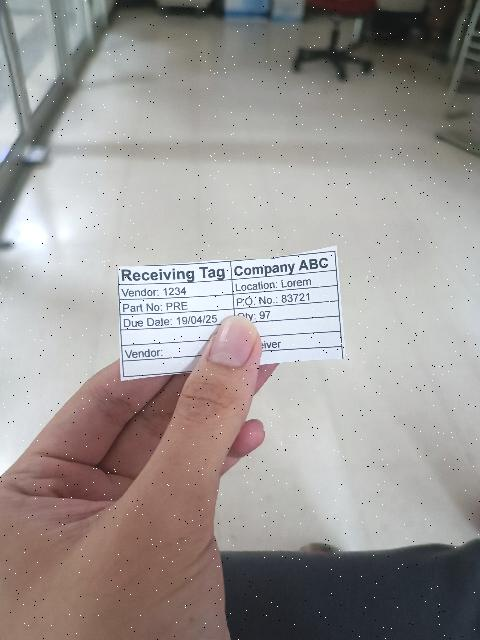PO no: (233, 286, 338, 309)
part no: (120, 294, 234, 315)
qty: (234, 300, 340, 322)
tags: (117, 246, 345, 380)
